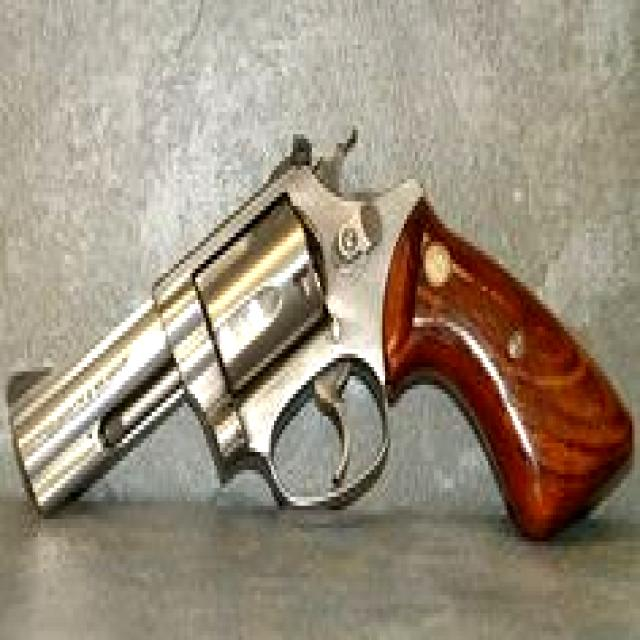revolver: (7, 107, 636, 565)
